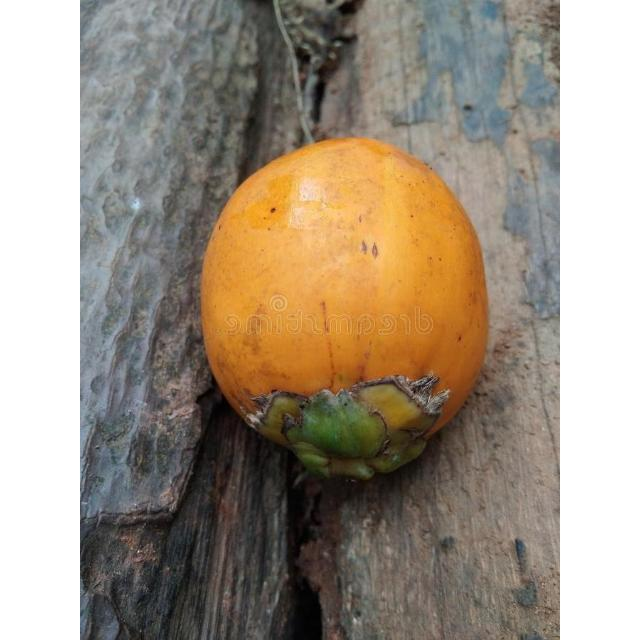good: (201, 137, 489, 483)
